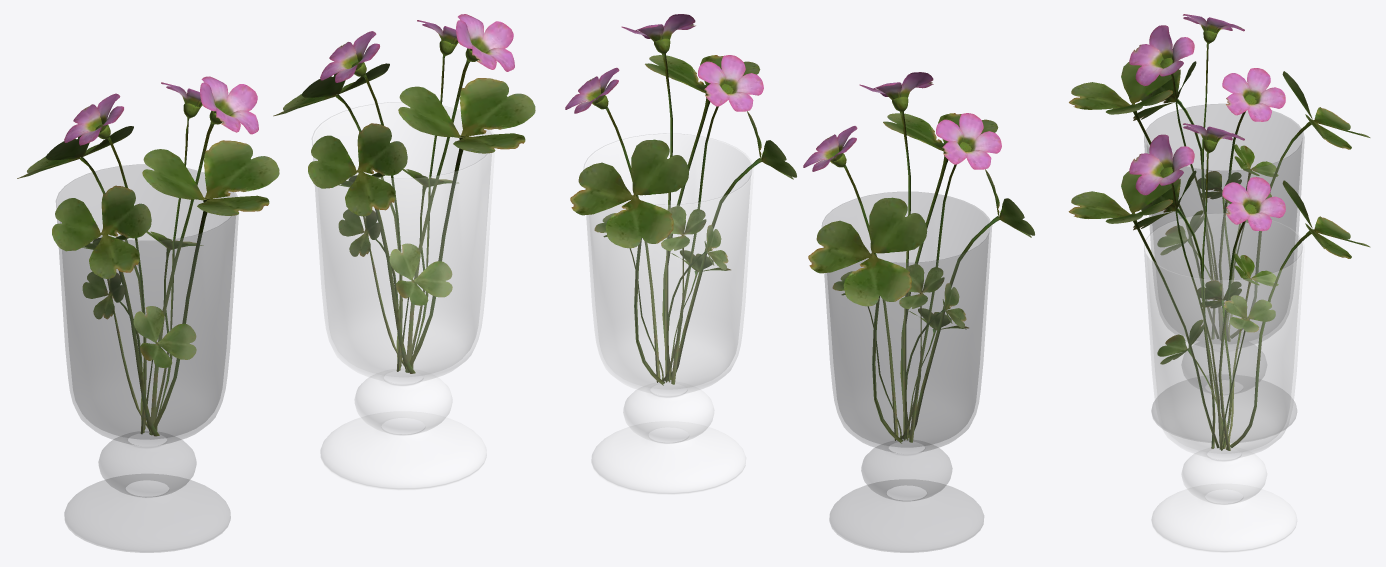
File: vase_flowers.glb
3 views of the same model, side by side, from view 1: azimuth 30°, elevation 25°; view 2: azimuth 150°, elevation 25°; view 3: azimuth 270°, elevation 25° (orthographic). The views are drawn at different scales.
Visible parts, largest first — view 1: Flowers1, GlassAlpha, GlassTransmission; view 2: Flowers1, GlassAlpha, GlassTransmission; view 3: GlassTransmission, Flowers1, GlassAlpha.
Part boxes in pixels (x1,y1,x2,y2): Flowers1: (17, 14, 535, 436); GlassAlpha: (56, 164, 238, 552); GlassTransmission: (312, 102, 494, 490); Flowers1: (565, 14, 1034, 443); GlassAlpha: (822, 192, 991, 552); GlassTransmission: (584, 133, 753, 494); GlassTransmission: (1144, 213, 1304, 552); Flowers1: (1068, 14, 1370, 450); GlassAlpha: (1144, 104, 1304, 442).
Size of the model in its own units: 0.2173 by 0.2032 by 0.1425.
Materials: 3 (1 with a texture image).
